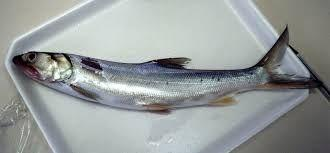Tenpounder: (13, 38, 325, 116)
